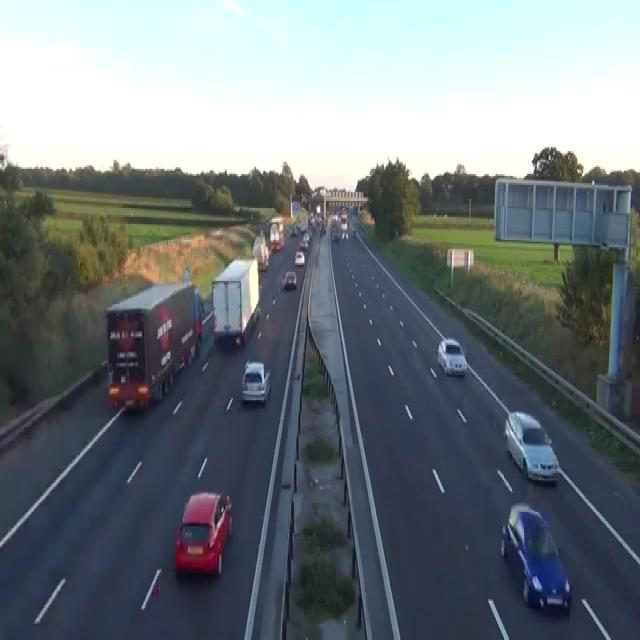Car: (500, 501, 571, 615), (174, 491, 232, 576), (504, 411, 559, 484), (240, 359, 271, 404), (437, 338, 467, 377), (283, 270, 297, 290), (271, 238, 285, 251), (441, 181, 454, 192), (294, 251, 304, 265), (331, 228, 341, 242), (253, 304, 260, 322), (271, 240, 280, 251), (299, 238, 308, 249), (319, 224, 326, 235), (289, 228, 297, 236), (341, 231, 348, 240), (351, 228, 356, 236)
Truck: (104, 279, 203, 411), (211, 256, 260, 347), (252, 235, 269, 272), (269, 217, 285, 251)
